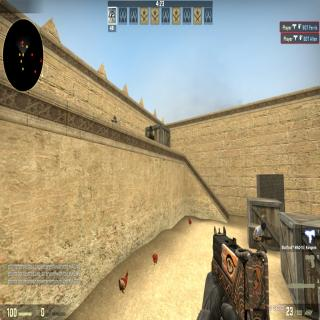CT-Head: (149, 124, 152, 131)
T-Body: (253, 221, 267, 257)
T-Head: (260, 221, 267, 231)
